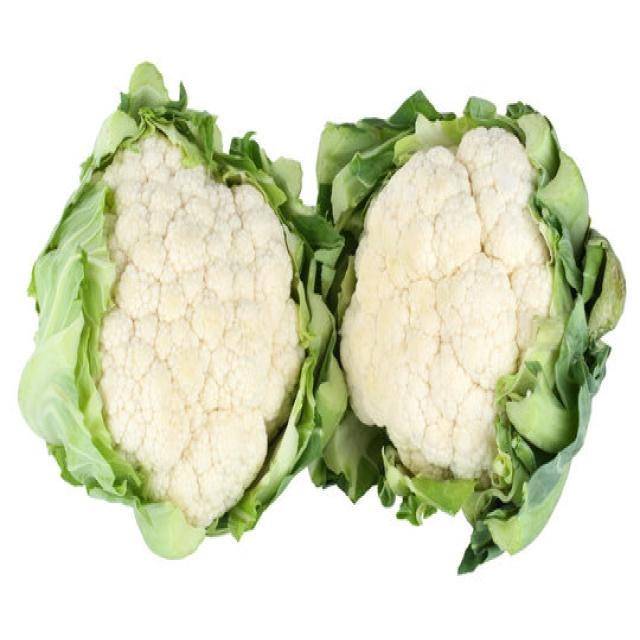Cauliflower: (93, 128, 304, 530), (338, 122, 554, 484)
